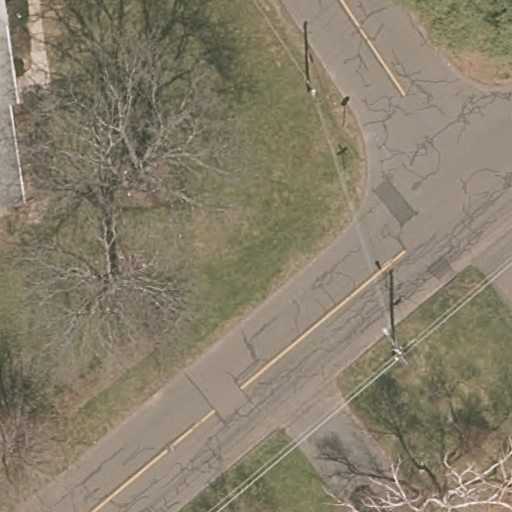DT: (382, 326, 409, 365)
